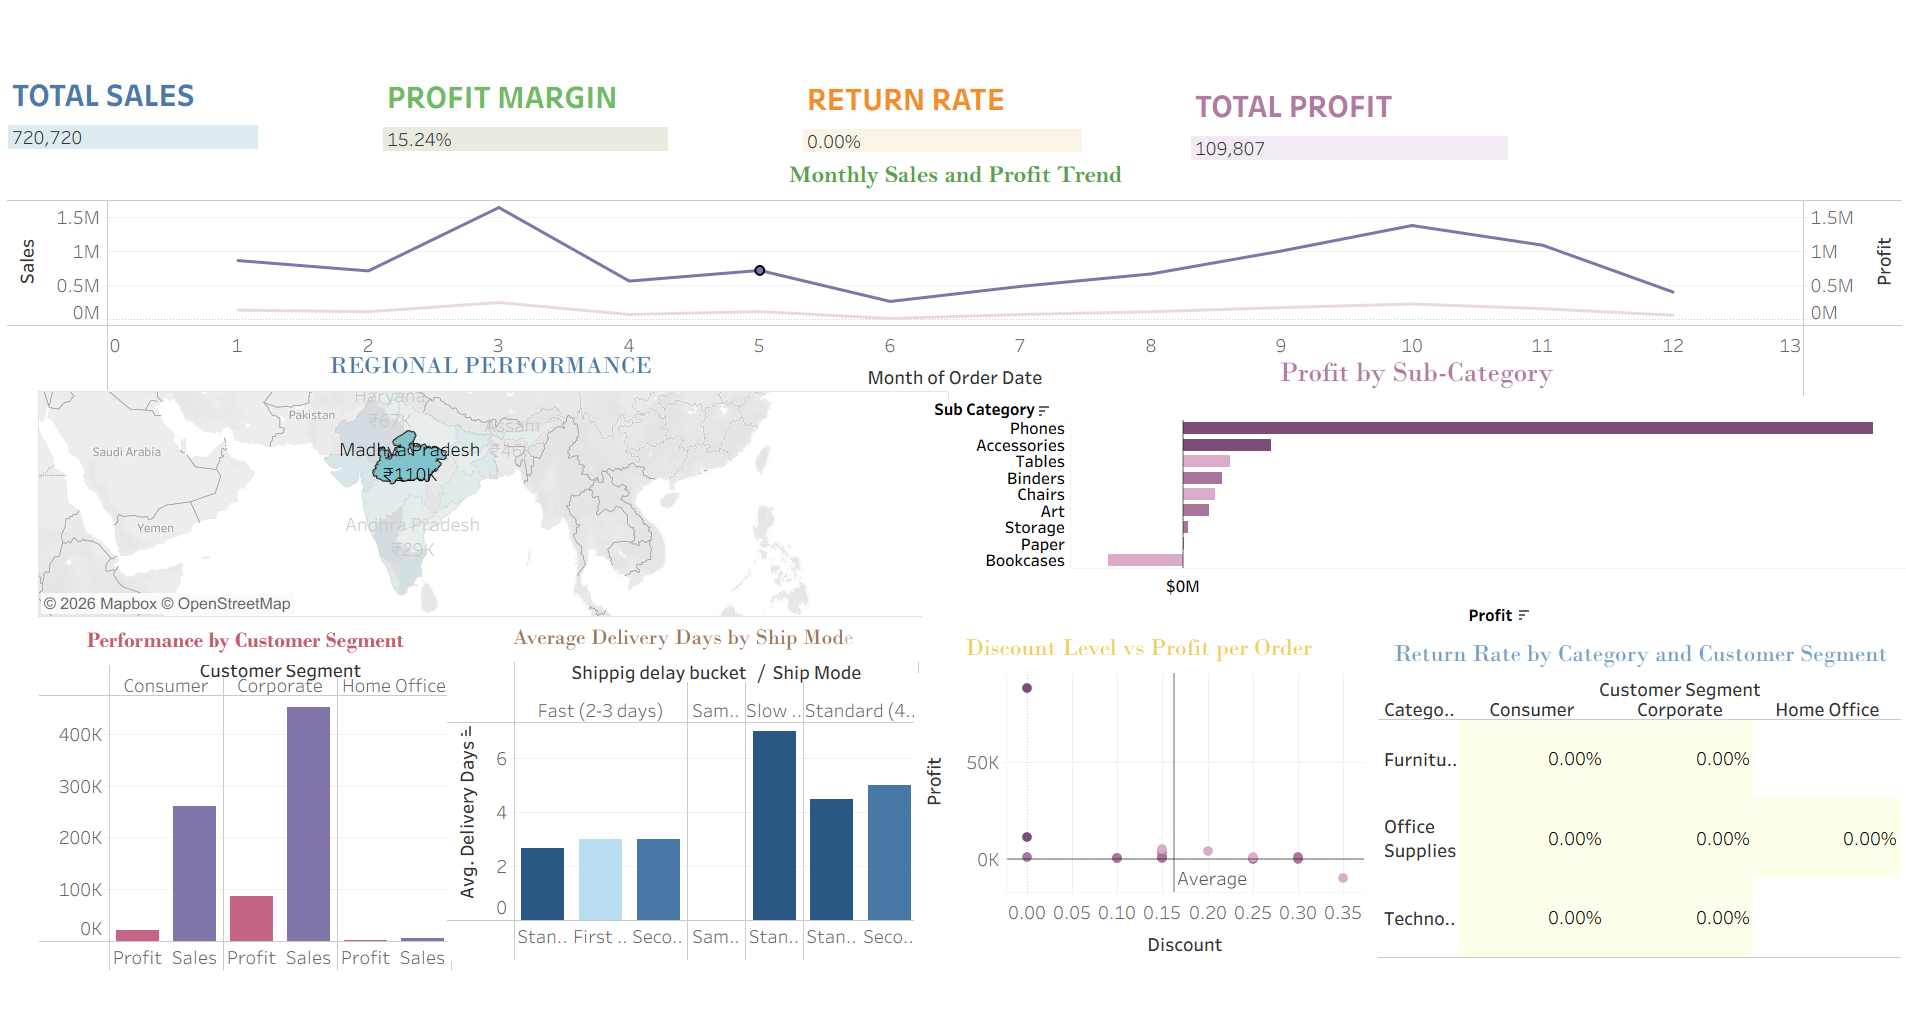

Layout of this report page (visuals, bound fields, positions):
{"tool":"tableau","page":{"name":"Executive Dashboard","canvas":[1900,900],"ordinal":0},"visuals":[{"type":"worksheet","title":"Sheet 8","mark":"Automatic","box":[4.8,6,250.6,80]},{"type":"worksheet","title":"Sheet 9","mark":"Automatic","box":[380,8,285,80]},{"type":"worksheet","title":"Sheet 10","mark":"Automatic","box":[800,10,279,79]},{"type":"worksheet","title":"Sheet 11","mark":"Automatic","box":[1188,17,317,80]},{"type":"worksheet","title":"Sales trend","mark":"Line","rows":["sales","profit"],"cols":["order_date"],"box":[4,94,1897,240]},{"type":"worksheet","title":"Regional Performance","mark":"Automatic","box":[35,284,911,270]},{"type":"worksheet","title":"Category Profitability","mark":"Automatic","rows":["sub_category"],"cols":["profit"],"box":[919,288,989,282]},{"type":"worksheet","title":" Shipping Performance","mark":"Automatic","rows":["delivery_days"],"cols":["Calculation_0081380779438080","ship_mode"],"box":[444,557,472,341]},{"type":"worksheet","title":"Discount vs Profit","mark":"Automatic","rows":["profit"],"cols":["discount"],"box":[911,566,450,334]},{"type":"worksheet","title":"Return Analysis","mark":"Square","rows":["category"],"cols":["customer_segment"],"box":[1375,572,525,323]}]}

Visuals, with their boxes on the page's 1900x900 design canvas (x1, y1, x2, y2). These are canvas units, not pixel positions in the 1906x1021 screenshot, which may show the page scaled, cropped or inside an application window:
"Sheet 8" worksheet: left=5, top=6, right=255, bottom=86
"Sheet 9" worksheet: left=380, top=8, right=665, bottom=88
"Sheet 10" worksheet: left=800, top=10, right=1079, bottom=89
"Sheet 11" worksheet: left=1188, top=17, right=1505, bottom=97
"Sales trend" worksheet (Line marks): left=4, top=94, right=1901, bottom=334
"Regional Performance" worksheet: left=35, top=284, right=946, bottom=554
"Category Profitability" worksheet: left=919, top=288, right=1908, bottom=570
" Shipping Performance" worksheet: left=444, top=557, right=916, bottom=898
"Discount vs Profit" worksheet: left=911, top=566, right=1361, bottom=900
"Return Analysis" worksheet (Square marks): left=1375, top=572, right=1900, bottom=895
